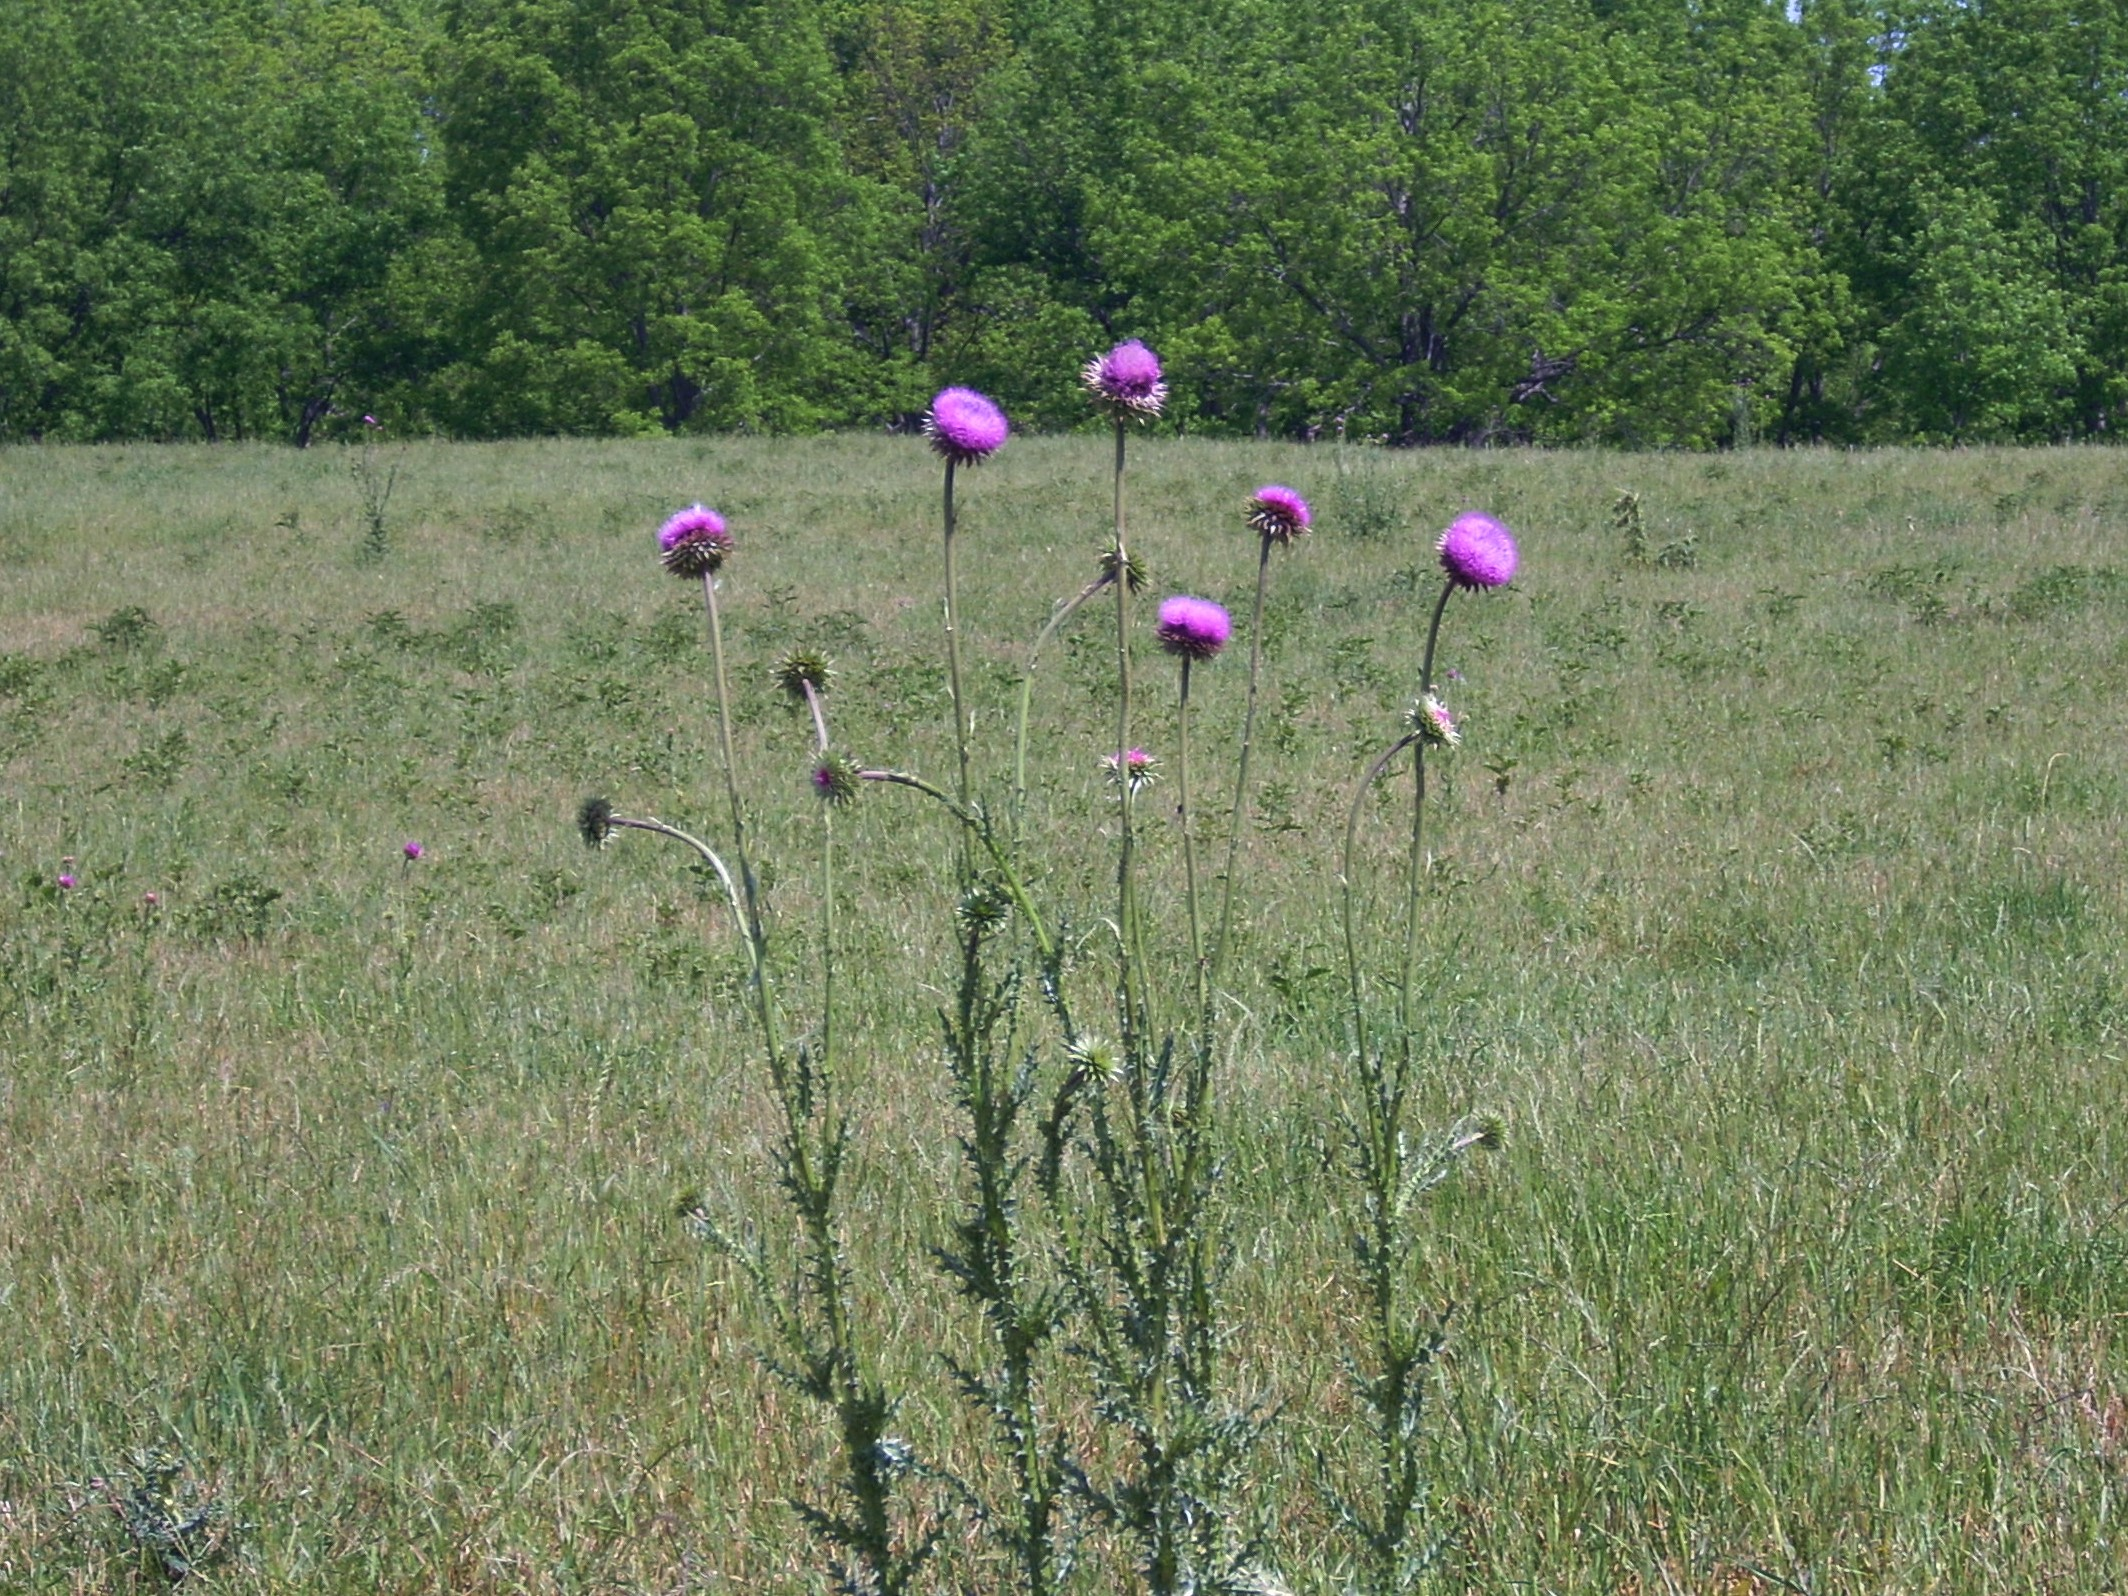thistle: (1064, 329, 1175, 449), (901, 379, 1007, 483), (1429, 505, 1528, 615), (638, 495, 736, 583), (1146, 587, 1237, 674), (1237, 468, 1329, 553)
